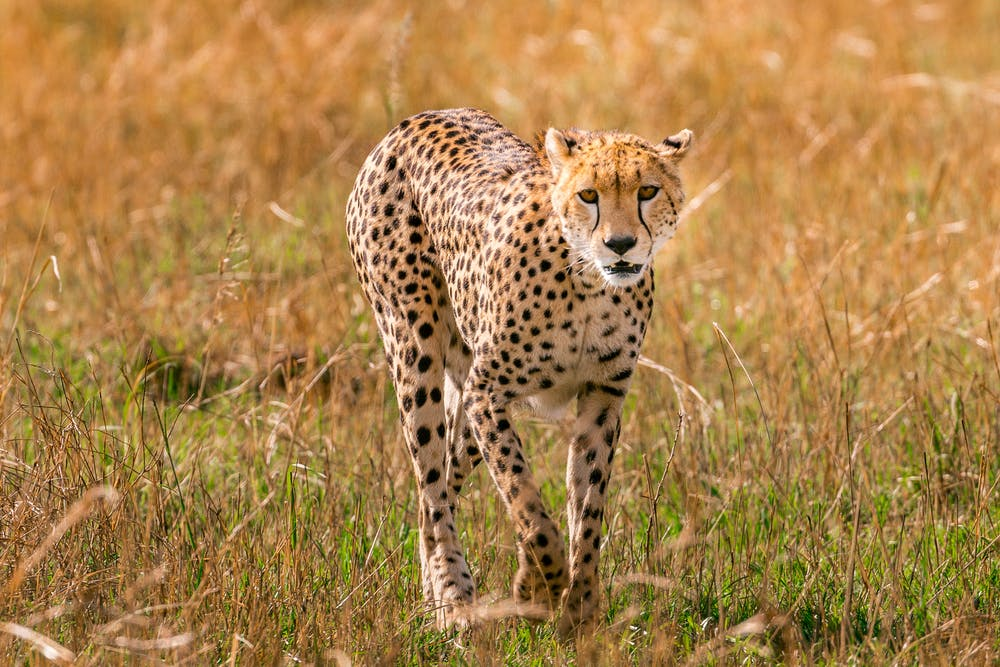cheetah: (519, 112, 704, 307)
